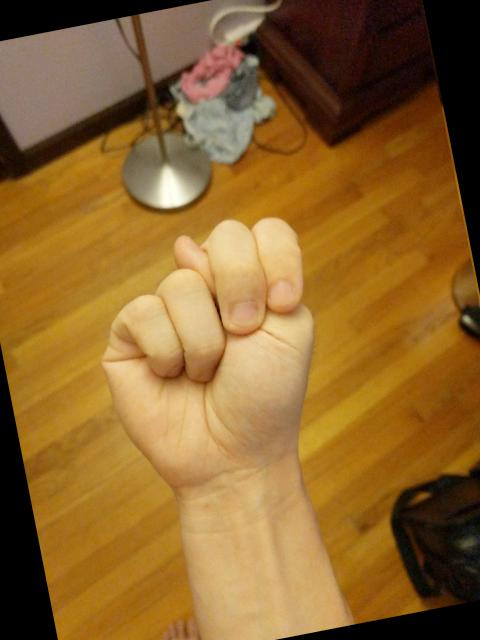N: (72, 201, 348, 510)
